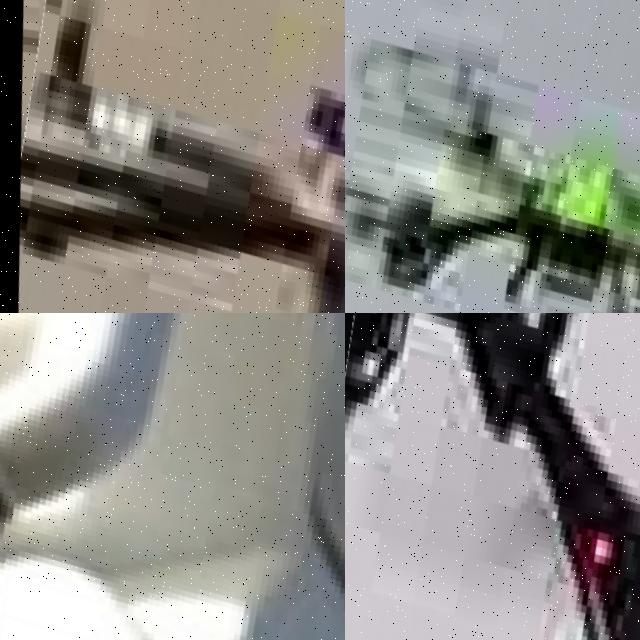0: (0, 0, 345, 313), (345, 313, 640, 640), (345, 0, 640, 313)
drone: (0, 313, 345, 640)
